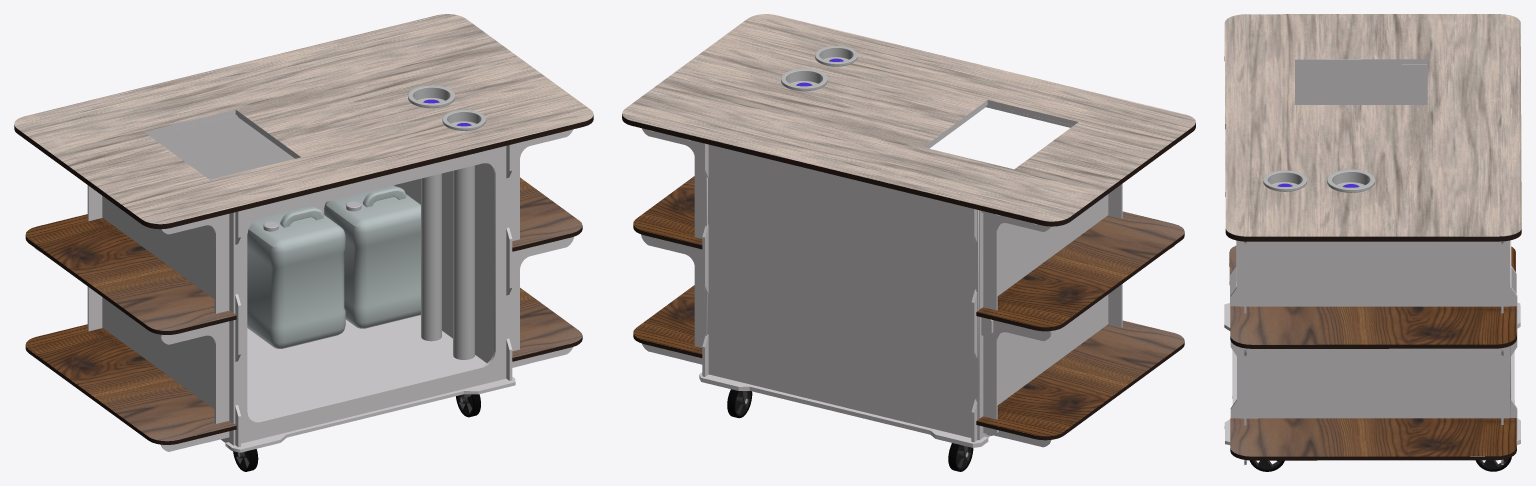
Rendered from Summit.glb.
The picture shows the model from 3 angles, left to right: view 1: azimuth 30°, elevation 25°; view 2: azimuth 150°, elevation 25°; view 3: azimuth 270°, elevation 25°; orthographic projection. The views are drawn at different scales.
Parts seen in each view (by area): view 1: table, Plane, Plane.010, Plane.011, Plane.012, Cylinder.037, Cylinder.038, Plane.025, Cylinder.035, Cylinder.036, sda, Plane.028 (+1 smaller); view 2: Plane, table, Plane.011, Plane.012, Plane.025, Plane.028, sda, Cylinder.022, Cylinder.036, Cylinder.035; view 3: table, Plane, Plane.012, Plane.011, sda, Plane.028, Plane.025, Cylinder.036, Cylinder.035, Cylinder.022, Plane.010.
Boxes of the visible parts, <box> form: table: <box>14,14,593,224</box>; Plane: <box>102,114,494,444</box>; Plane.010: <box>232,146,509,445</box>; Plane.011: <box>25,177,582,334</box>; Plane.012: <box>25,288,582,444</box>; Cylinder.037: <box>247,205,345,348</box>; Cylinder.038: <box>324,185,420,328</box>; Plane.025: <box>35,129,573,451</box>; Cylinder.035: <box>442,110,485,359</box>; Cylinder.036: <box>408,85,454,341</box>; sda: <box>14,109,593,229</box>; Plane.028: <box>225,144,515,452</box>; Plane: <box>705,105,1108,440</box>; table: <box>622,14,1195,221</box>; Plane.011: <box>633,176,1184,331</box>; Plane.012: <box>633,285,1184,440</box>; Plane.025: <box>641,128,1173,447</box>; Plane.028: <box>649,130,1036,447</box>; sda: <box>622,100,1195,226</box>; Cylinder.022: <box>727,389,973,471</box>; Cylinder.036: <box>781,68,827,91</box>; Cylinder.035: <box>815,45,857,66</box>; table: <box>1224,14,1521,236</box>; Plane: <box>1239,64,1511,418</box>; Plane.012: <box>1229,245,1516,460</box>; Plane.011: <box>1230,306,1516,348</box>; sda: <box>1224,56,1521,241</box>; Plane.028: <box>1224,265,1520,444</box>; Plane.025: <box>1244,241,1503,465</box>; Cylinder.036: <box>1327,169,1374,192</box>; Cylinder.035: <box>1263,170,1306,191</box>; Cylinder.022: <box>1249,457,1511,471</box>; Plane.010: <box>1236,240,1238,418</box>.
Bounding box in the file's own units: 5 × 3.07 × 2.83.
22 materials, 2 textured.
